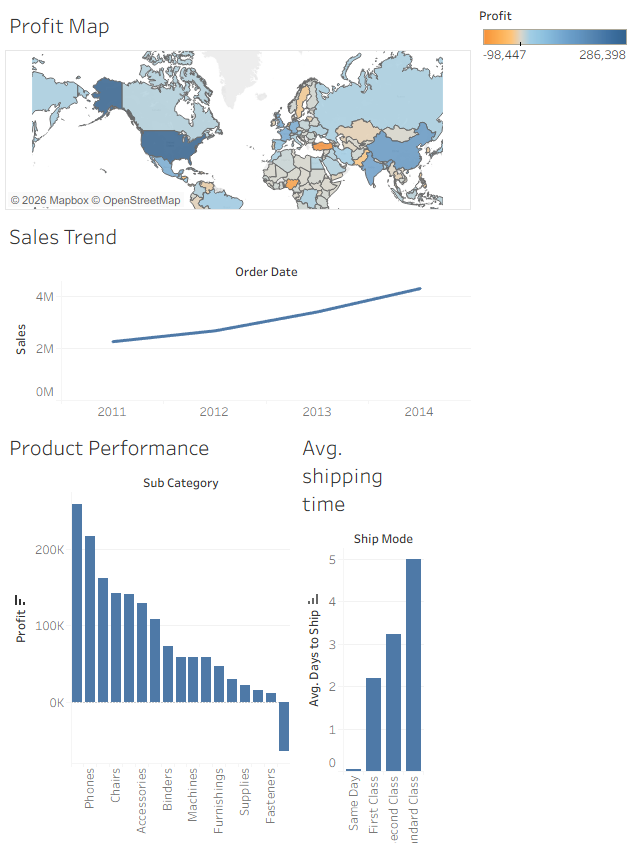

Layout of this report page (visuals, bound fields, positions):
{"tool":"tableau","page":{"name":"Dashboard 1","canvas":[650,860],"ordinal":0},"visuals":[{"type":"worksheet","title":"Sheet 1","mark":"Automatic","box":[8,8,474,211]},{"type":"legend","title":"Sheet 1","param":"[federated.01rn33z0cjc4731778bqi182j54a].[sum:profit:qk]","box":[482,8,160,65]},{"type":"worksheet","title":"Sheet 4","mark":"Automatic","rows":["sales"],"cols":["order_date"],"box":[8,219,474,211]},{"type":"worksheet","title":"Sheet 2","mark":"Automatic","rows":["profit"],"cols":["sub_category"],"box":[8,430,293,422]},{"type":"worksheet","title":"Sheet 3","mark":"Automatic","rows":["Calculation_1611931410415617"],"cols":["ship_mode"],"box":[301,430,181,422]}]}

Visuals, with their boxes in screenshot pixels (x1, y1, x2, y2), scaled from the page's 650x860 canvas onto the 634x845 screenshot:
"Sheet 1" worksheet: l=8, t=8, r=470, b=215
"Sheet 1" legend: l=470, t=8, r=626, b=72
"Sheet 4" worksheet: l=8, t=215, r=470, b=422
"Sheet 2" worksheet: l=8, t=422, r=294, b=837
"Sheet 3" worksheet: l=294, t=422, r=470, b=837
